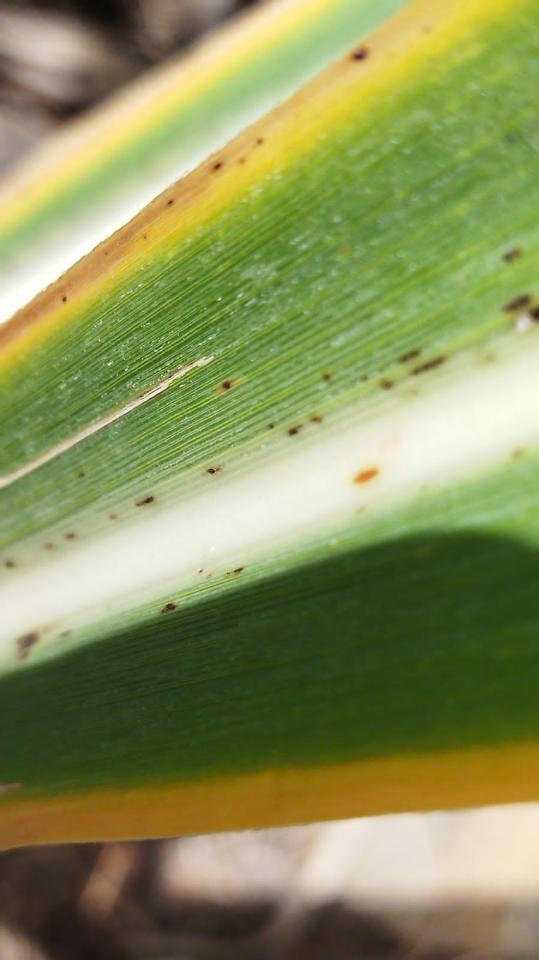RedRot: (341, 458, 391, 496)
Rust: (310, 344, 456, 394), (200, 126, 274, 176), (10, 620, 79, 669), (491, 282, 539, 330), (261, 409, 325, 442), (39, 528, 93, 556), (192, 562, 251, 586), (499, 238, 535, 270), (340, 40, 376, 72), (157, 182, 193, 210), (151, 598, 188, 622), (210, 374, 243, 395), (195, 461, 228, 481), (72, 463, 98, 483), (139, 488, 159, 513), (0, 553, 25, 573)
Yellow: (1, 0, 512, 383), (0, 742, 539, 851)
